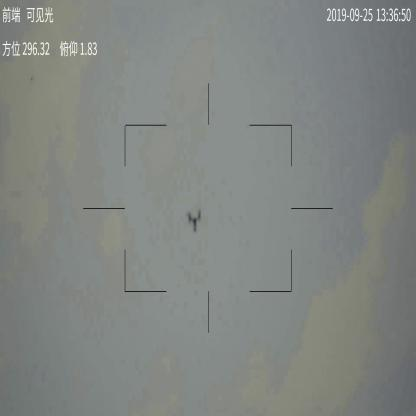uav: (187, 206, 204, 238)
